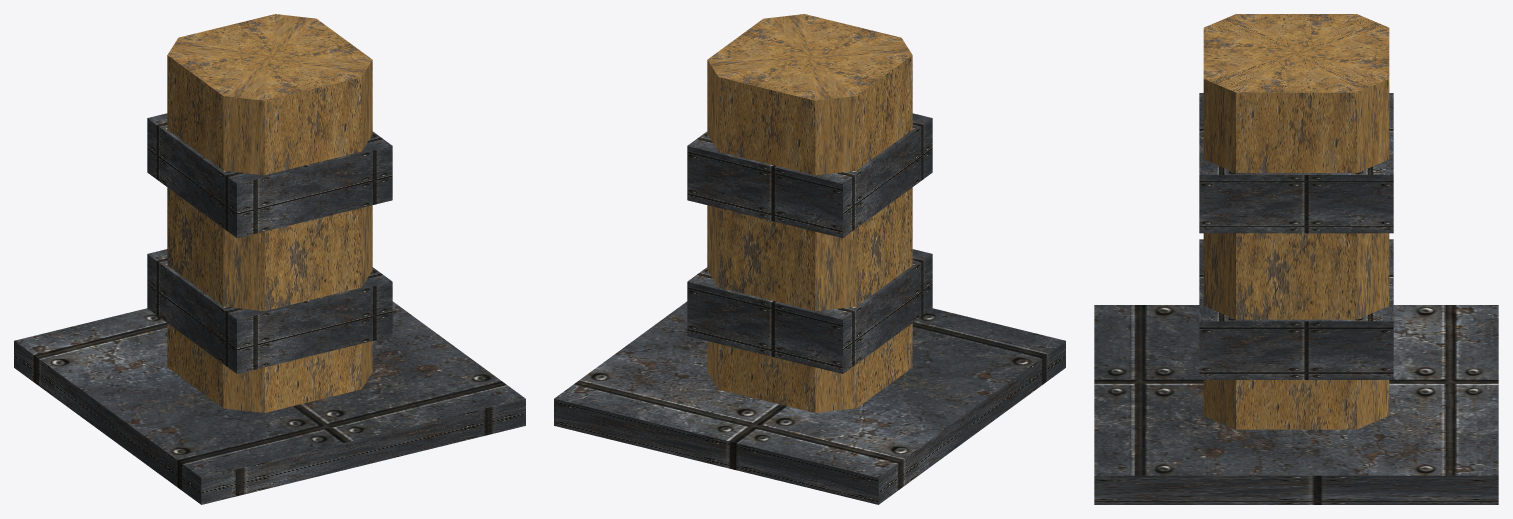
Rendered from bollard.obj.
The picture shows the model from 3 angles, left to right: view 1: azimuth 30°, elevation 25°; view 2: azimuth 150°, elevation 25°; view 3: azimuth 270°, elevation 25°; orthographic projection. The views are drawn at different scales.
Parts seen in each view (by area): view 1: bollard; view 2: bollard; view 3: bollard.
Part boxes in pixels (x1,y1,x2,y2): bollard: [14, 14, 525, 504]; bollard: [554, 14, 1065, 504]; bollard: [1094, 14, 1498, 504].
Bounding box in the file's own units: 1 × 1 × 1.
Materials: 1 (1 with a texture image).
